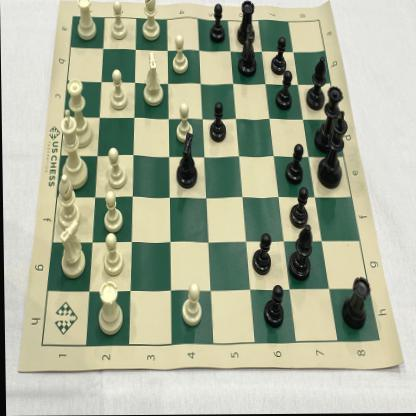black-bishop: (288, 224, 312, 282), (307, 55, 325, 111)
black-king: (316, 110, 348, 188)
black-knight: (173, 132, 199, 190), (238, 22, 256, 78)
black-pawn: (261, 285, 283, 330), (250, 234, 273, 277), (283, 143, 304, 187), (287, 189, 310, 229), (208, 101, 227, 144), (273, 71, 293, 111), (209, 4, 226, 44), (270, 36, 286, 78)
black-queen: (318, 85, 344, 147)
black-rook: (340, 277, 371, 332), (235, 0, 256, 47)
white-bishop: (54, 172, 81, 230), (141, 0, 162, 40)
white-king: (56, 110, 87, 190)
white-knight: (57, 218, 85, 278), (141, 50, 165, 108)
white-pawn: (179, 281, 201, 327), (102, 231, 123, 277), (102, 189, 123, 233), (105, 148, 127, 189), (109, 69, 127, 111), (110, 1, 128, 41), (171, 35, 188, 76), (175, 101, 192, 141)
white-queen: (64, 76, 93, 149)
white-rook: (96, 279, 122, 335), (74, 0, 98, 42)
